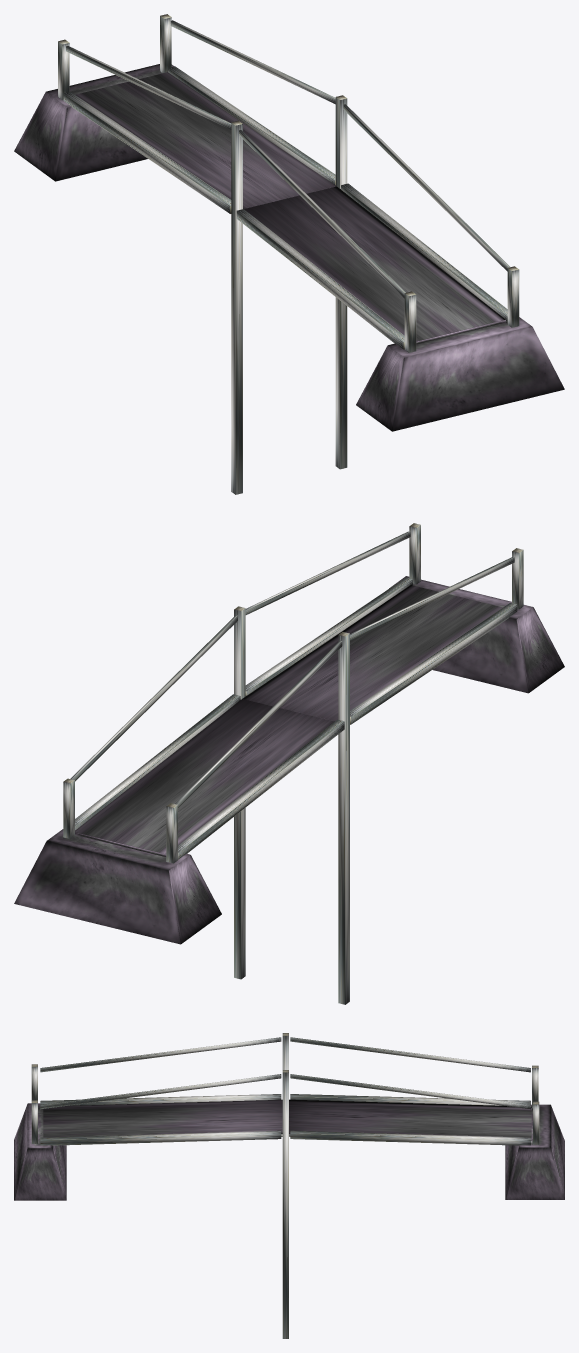
Rendered from metal_bridge_25m.DAE.
The picture shows the model from 3 angles, top to bottom: view 1: azimuth 30°, elevation 25°; view 2: azimuth 150°, elevation 25°; view 3: azimuth 270°, elevation 25°; orthographic projection. The views are drawn at different scales.
Parts seen in each view (by area): view 1: Box003; view 2: Box003; view 3: Box003.
Boxes of the visible parts, bbox=[...] form: Box003: bbox=[14, 14, 564, 494]; Box003: bbox=[14, 523, 564, 1004]; Box003: bbox=[14, 1033, 564, 1338].
Size of the model in its own units: 6.9 by 14.1 by 26.42.
